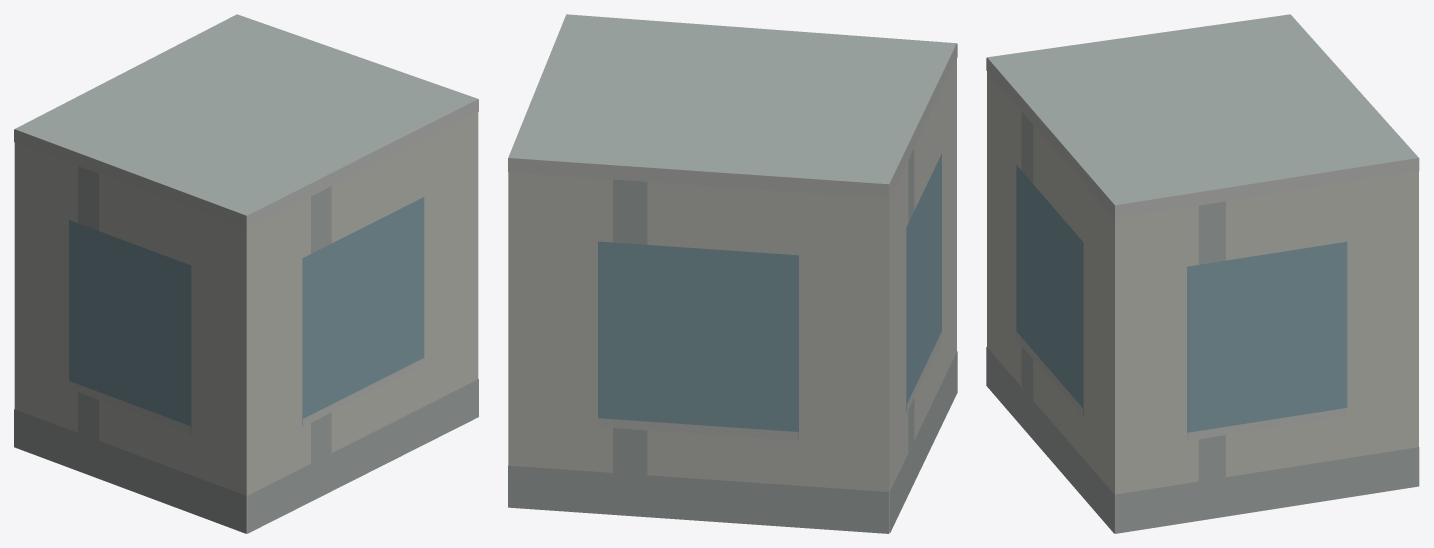
Rendered from survey-upis-32573226.glb.
3 renders of one model, left to right at view 1: azimuth 30°, elevation 25°; view 2: azimuth 150°, elevation 25°; view 3: azimuth 270°, elevation 25°, orthographic. The views are drawn at different scales.
Visible parts, largest first — view 1: survey-upis-32573226.tmp; view 2: survey-upis-32573226.tmp; view 3: survey-upis-32573226.tmp.
Boxes of the visible parts, bbox=[...] form: survey-upis-32573226.tmp: bbox=[14, 14, 478, 533]; survey-upis-32573226.tmp: bbox=[508, 14, 957, 533]; survey-upis-32573226.tmp: bbox=[986, 14, 1419, 533].
Size of the model in its own units: 3.81 by 3.05 by 3.65.
